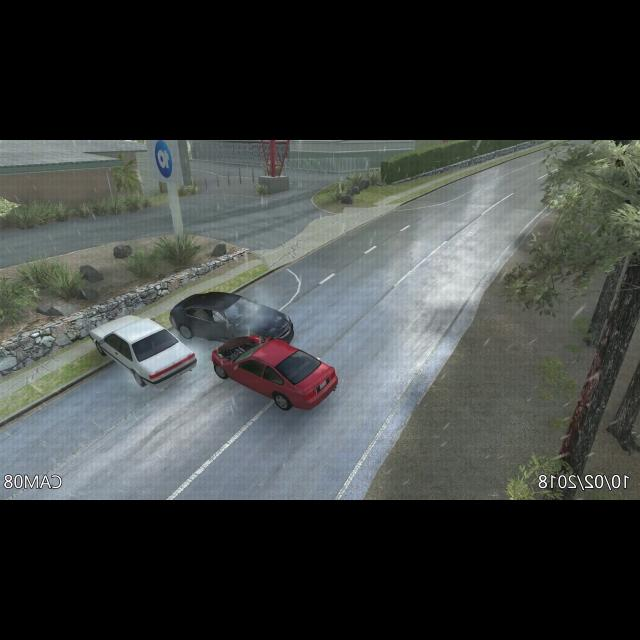accident: (169, 290, 341, 416)
